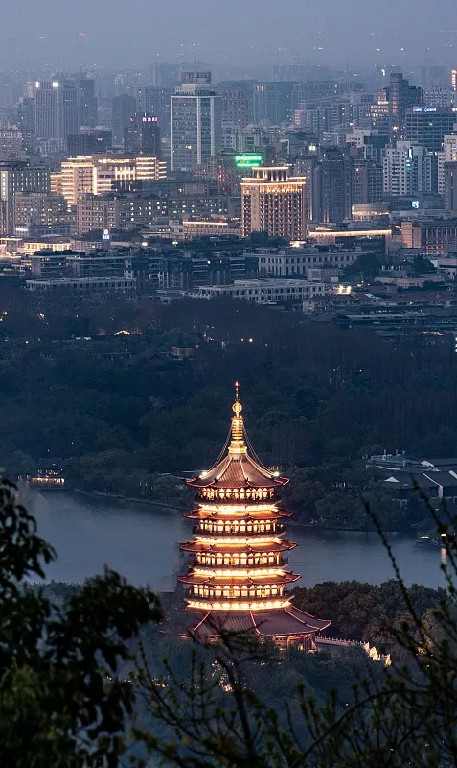Leifeng: (162, 378, 331, 658)
